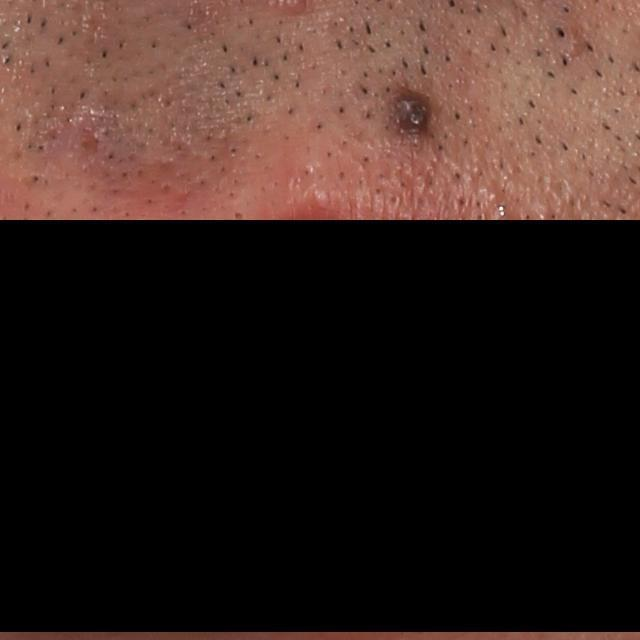nevus: (381, 77, 432, 154)
